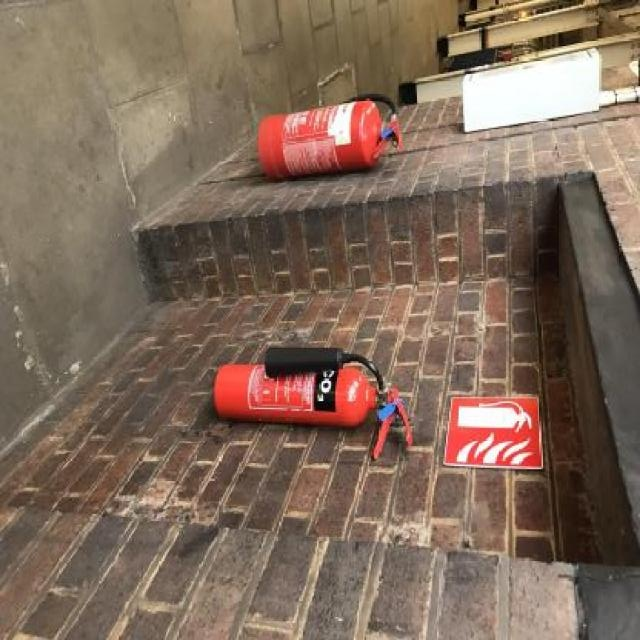fire extinguisher: (213, 347, 415, 461), (258, 95, 402, 184)
